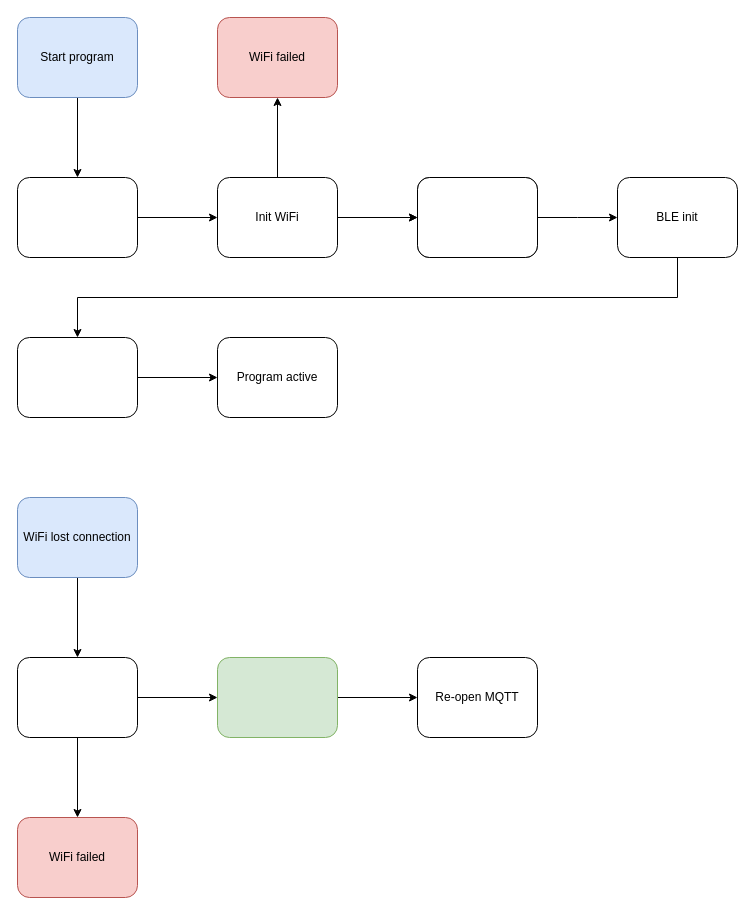
Image size: 755x915. Some labels were removed from this diagram. Each missing label, with the box of its shape:
BLE Initiated: (16, 336, 138, 418)
Init MQTT: (416, 176, 538, 258)
Program start: (16, 176, 138, 258)
WiFi reconnect: (16, 656, 138, 738)
WiFi reconnected: (216, 656, 338, 738)
